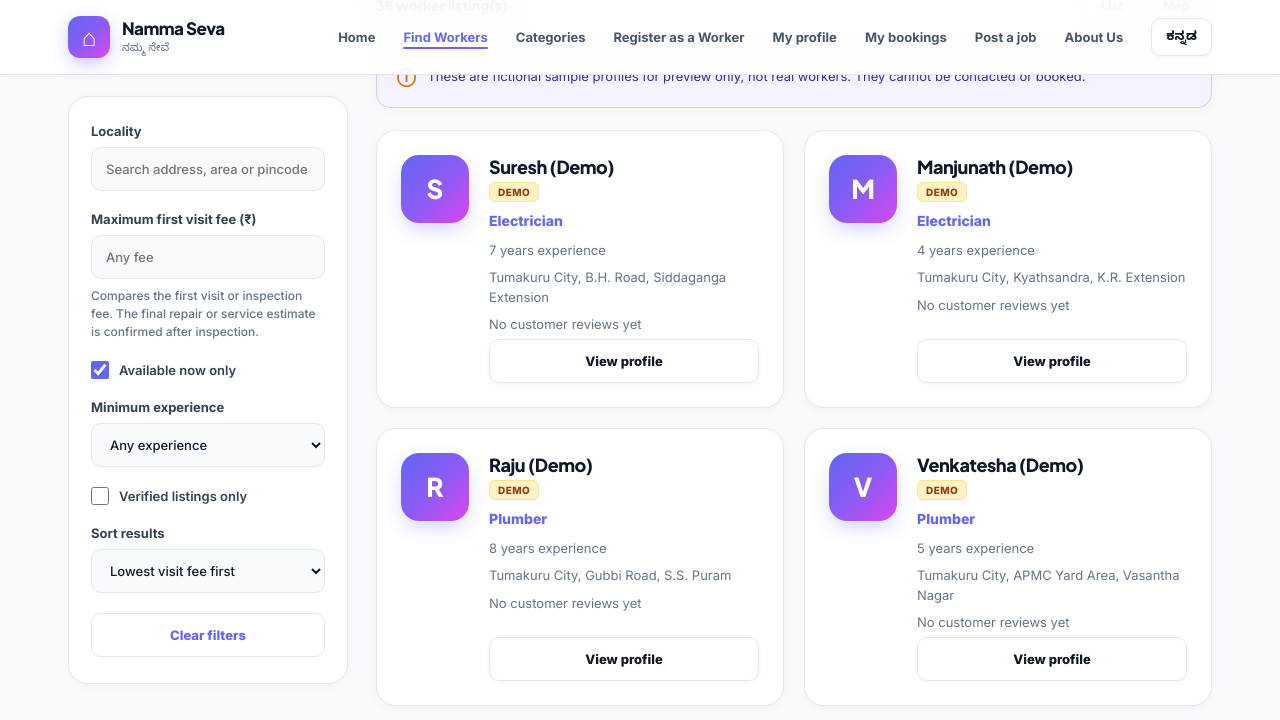
Test: shows demo workers and opens a clearly labeled sample profile when none are approved
(page scrolled)
Expected: the text "fictional sample profiles for preview only" is shown, [427, 68, 1085, 84]
Click the link "View profile" below "Suresh (Demo)". click: (624, 361)
box: [489, 339, 759, 383]
(page scrolled)
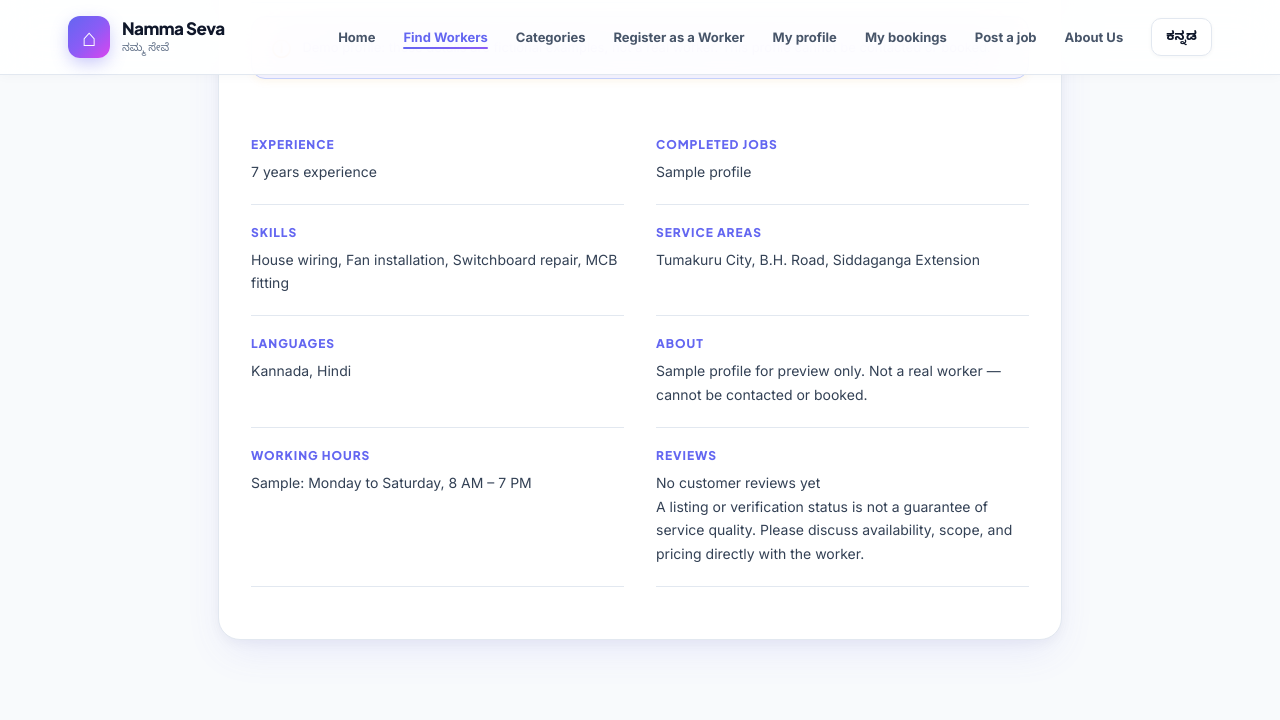
Expected: the text "fictional examples, not a real worker" is shown, [302, 39, 991, 55]
Result: the text "House wiring, Fan installation, Switchboard repair, MCB fitting" is shown at [251, 248, 624, 295]
